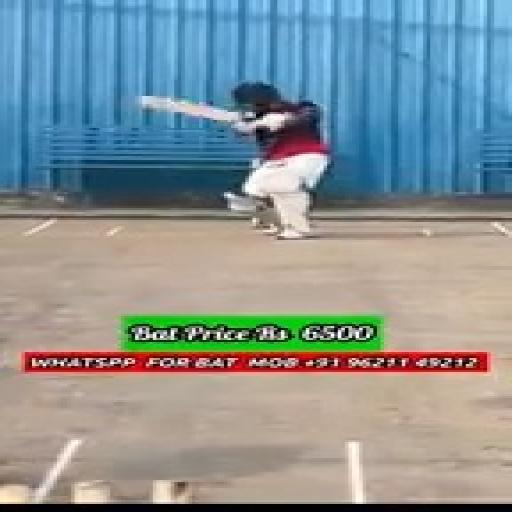Cricket bat: (139, 96, 235, 122)
